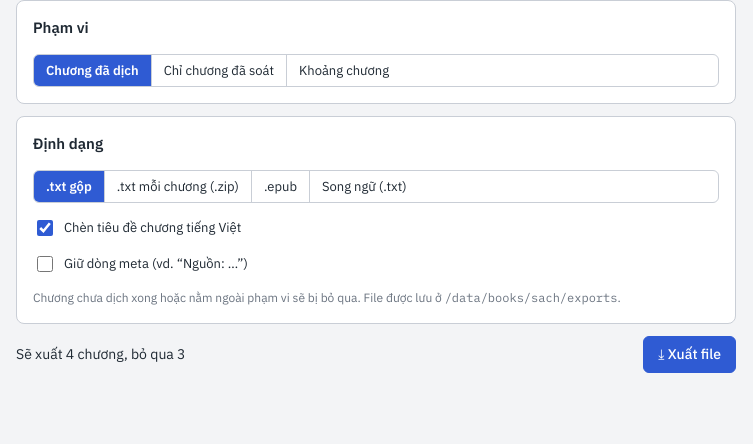
Test case: lỗi khi hỏi trạng thái lần xuất: dừng hỏi lại, hiện banner lỗi, nút không kẹt
This screenshot has width=753, height=444.
Check: the text "Sẽ xuất 4 chương, bỏ qua 3" is shown, box x1=16 y1=345 x2=186 y2=363
Click the button "⤓ Xuất file". click: (690, 354)
box: x1=643 y1=336 x2=736 y2=373
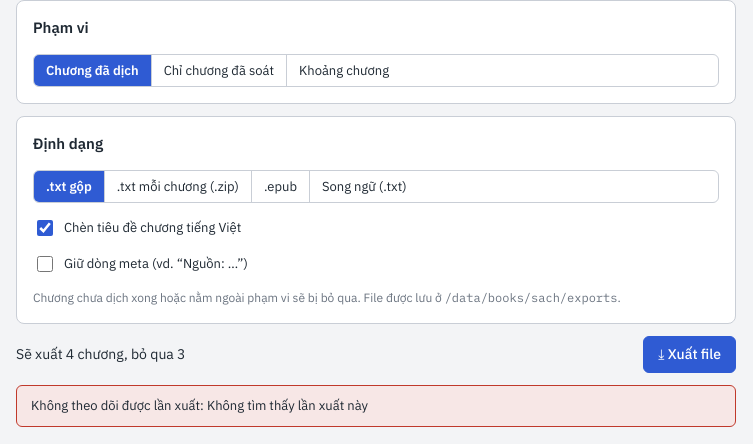
Check: the text "Không theo dõi được lần xuất: Không tìm thấy lần xuất này" is shown, box x1=16 y1=385 x2=736 y2=426
